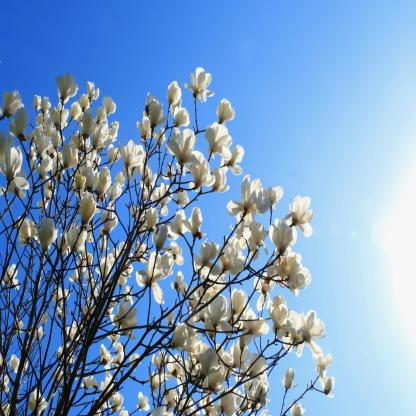Mokuren: (0, 65, 336, 416)
